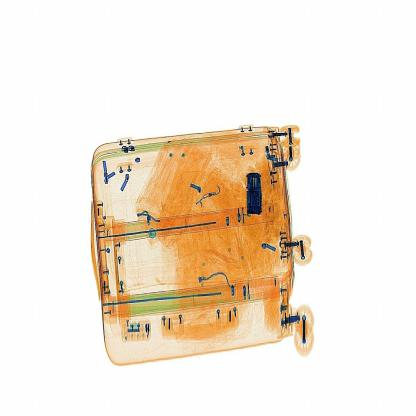scissors: (239, 168, 266, 218)
